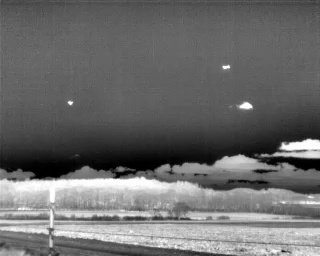DRONE: (219, 61, 233, 73)
